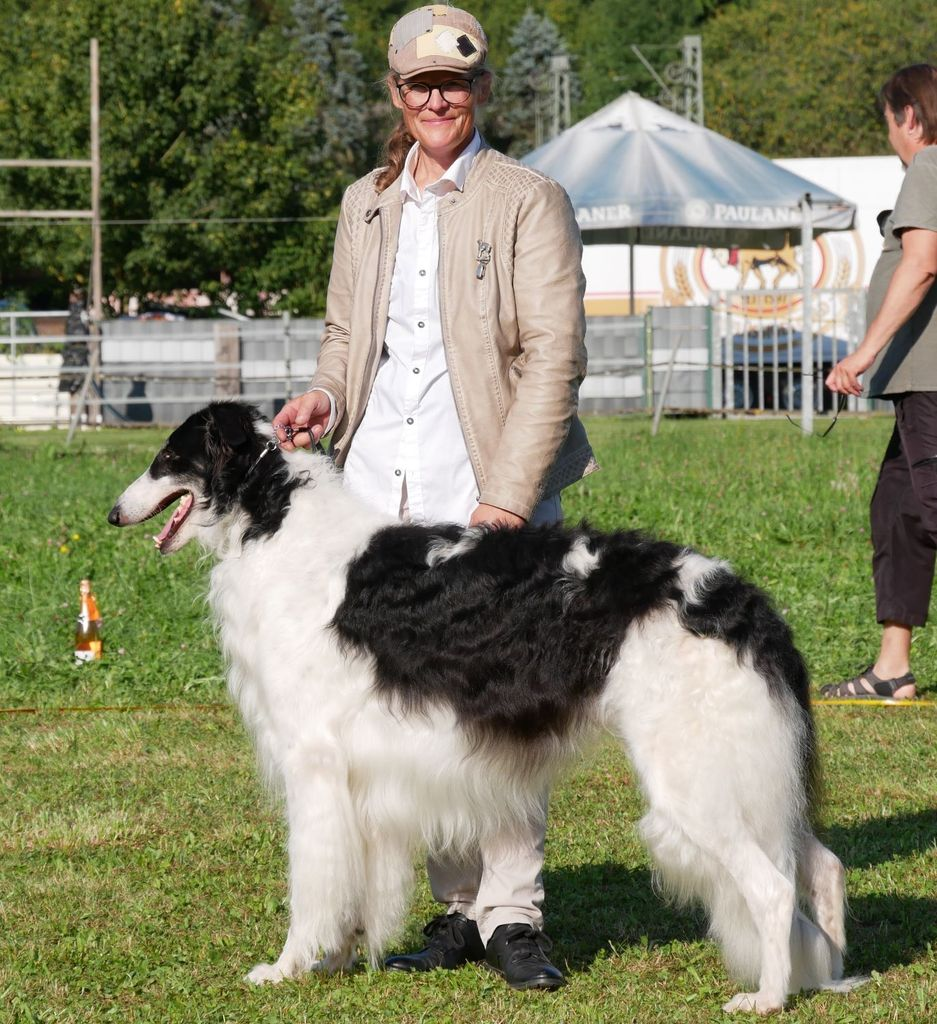borzoi: (99, 393, 869, 1020)
